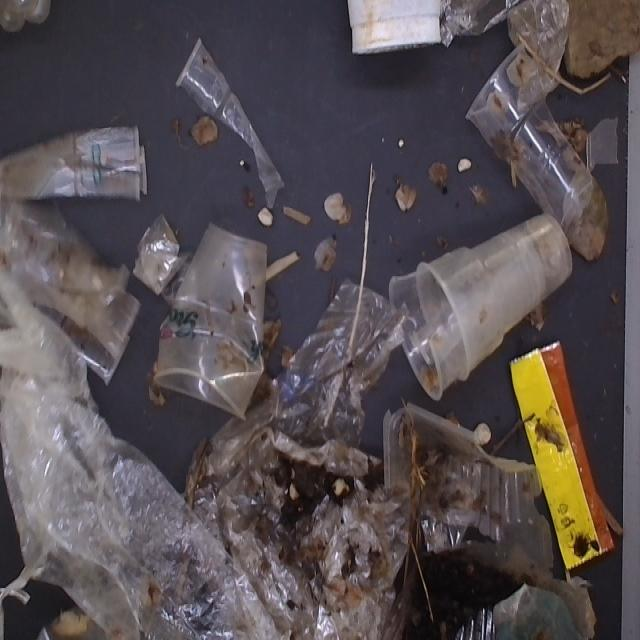food_packaging: (386, 393, 597, 640), (346, 0, 448, 64)
food_wrapping: (504, 348, 620, 568)
pet_pottles: (0, 0, 78, 45)
plastic_cups: (2, 108, 159, 388), (377, 199, 578, 396), (143, 190, 271, 424), (172, 36, 290, 208), (471, 49, 590, 218)
plastic_films: (0, 273, 394, 640), (447, 0, 580, 101), (128, 209, 184, 302)
